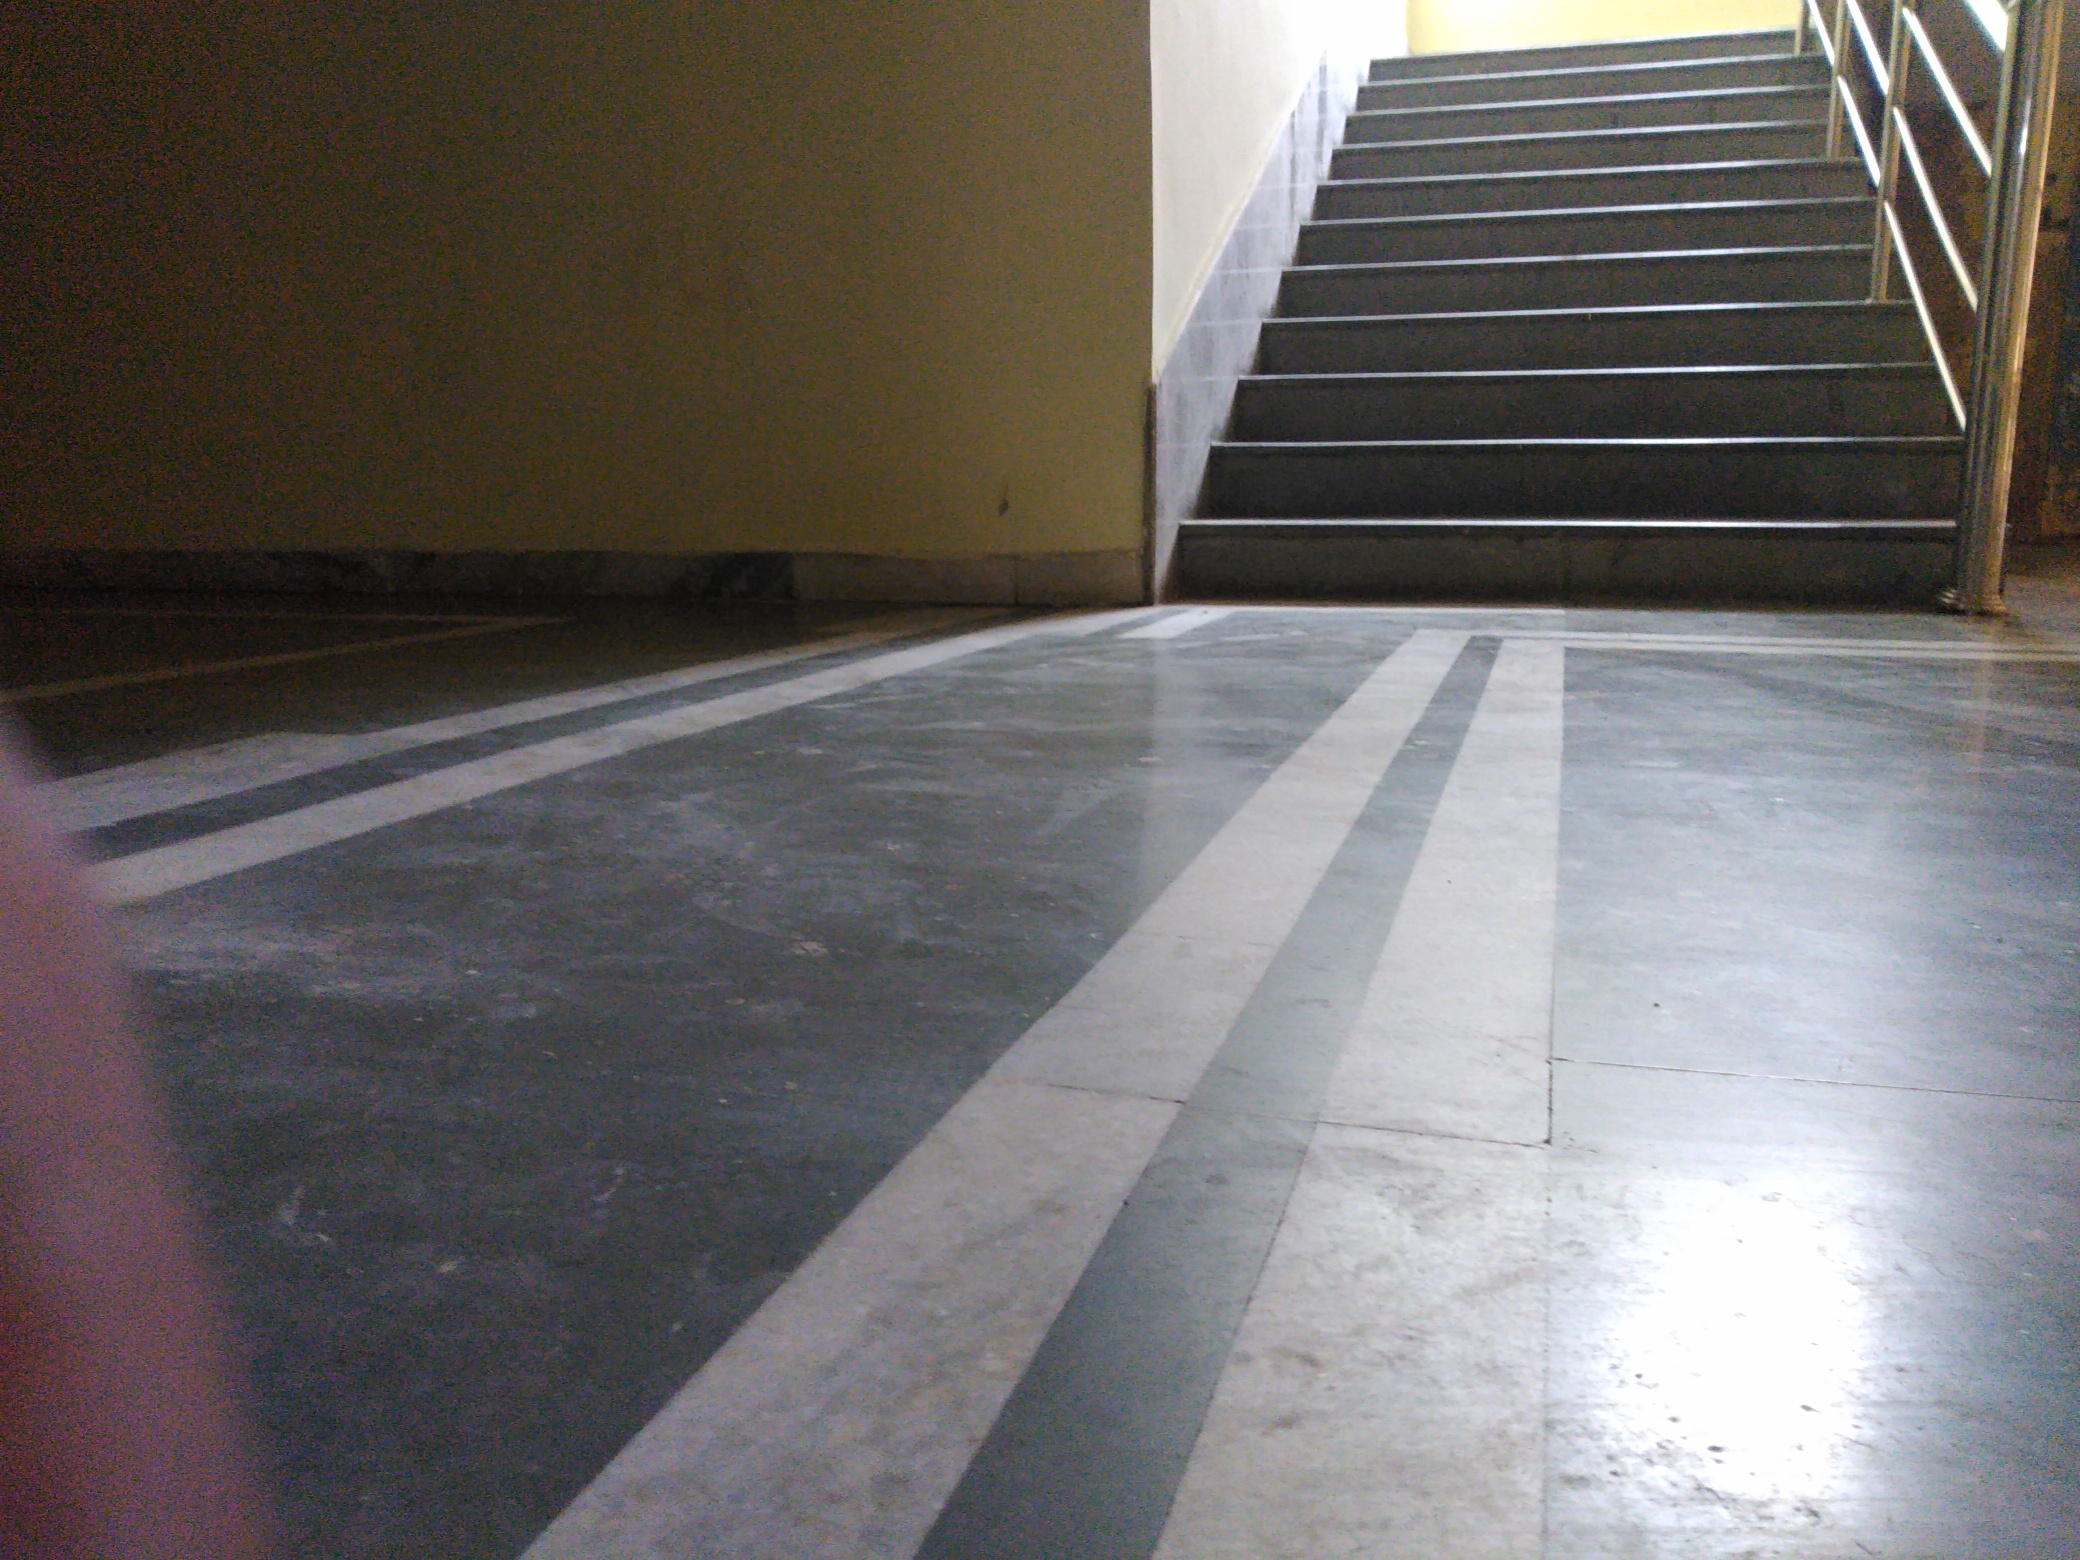stairs_up: (1166, 36, 1946, 588)
